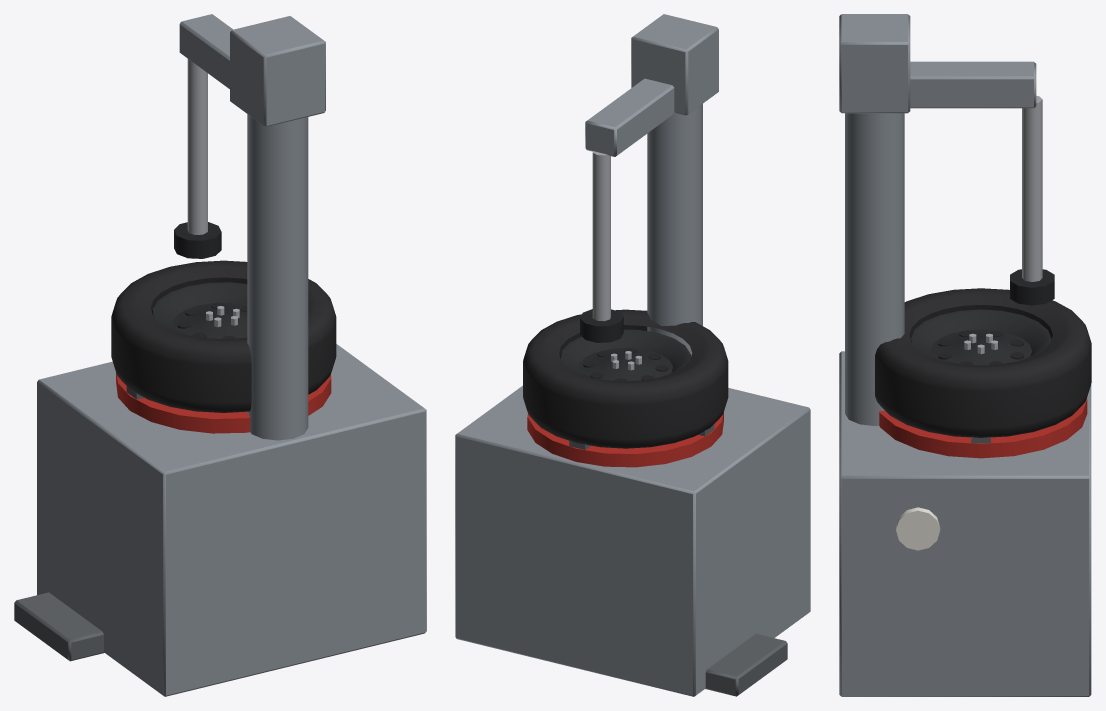
File: tyre_changer.glb
3 renders of one model, left to right at view 1: azimuth 30°, elevation 25°; view 2: azimuth 150°, elevation 25°; view 3: azimuth 270°, elevation 25°, orthographic. The views are drawn at different scales.
Parts seen in each view (by area): view 1: tyre_changer; view 2: tyre_changer; view 3: tyre_changer.
Part boxes in pixels (left/top/right/bottom): tyre_changer: left=14, top=14, right=426, bottom=696; tyre_changer: left=455, top=14, right=810, bottom=696; tyre_changer: left=839, top=14, right=1091, bottom=696.
Size of the model in its own units: 4.42 by 8.5 by 3.2.
